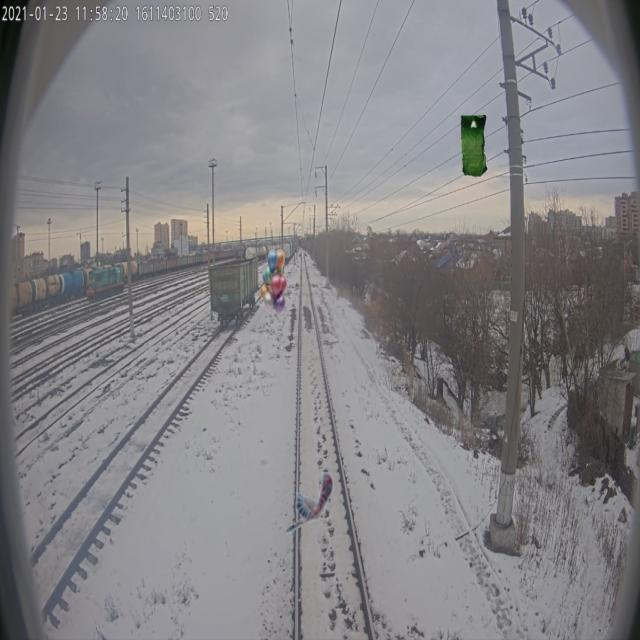balloon: (260, 249, 287, 313)
floating object: (282, 470, 335, 534)
plastic bag: (461, 113, 488, 177)
